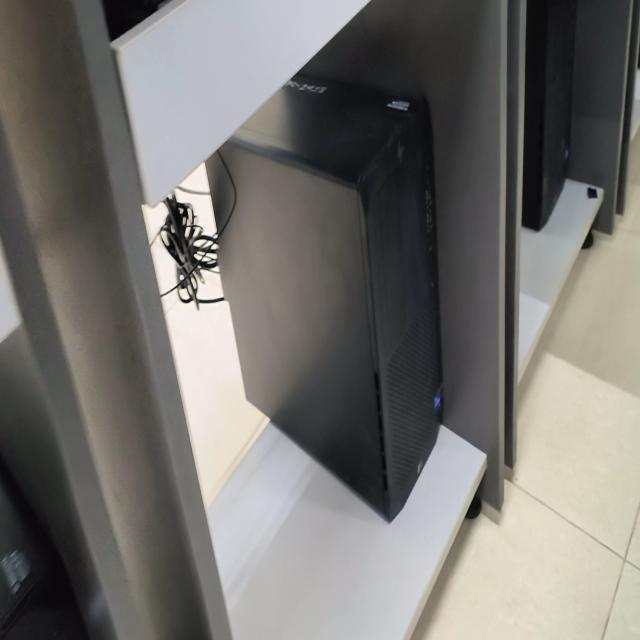Cpu: (206, 75, 442, 521), (0, 467, 88, 639), (522, 0, 577, 231)
